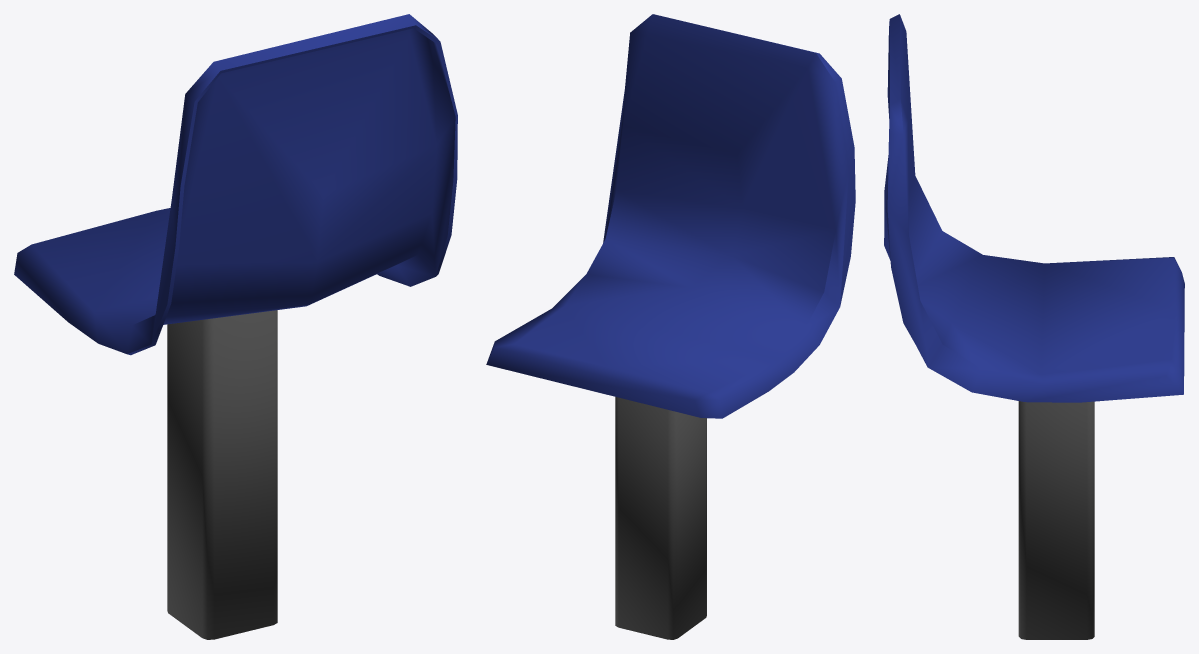
The model's file is chair_LOD2.fbx.
3 views of the same model, side by side, from view 1: azimuth 30°, elevation 25°; view 2: azimuth 150°, elevation 25°; view 3: azimuth 270°, elevation 25° (orthographic). The views are drawn at different scales.
Visible parts, largest first — view 1: Seat, Chair; view 2: Seat, Chair; view 3: Seat, Chair.
Boxes of the visible parts, x1,y1,x2,y2 form: Seat: (14, 14, 457, 355); Chair: (167, 310, 277, 639); Seat: (486, 14, 855, 418); Chair: (615, 397, 706, 639); Seat: (884, 14, 1184, 402); Chair: (1018, 401, 1094, 639).
Bounding box in the file's own units: 74.93 × 161 × 77.06.
